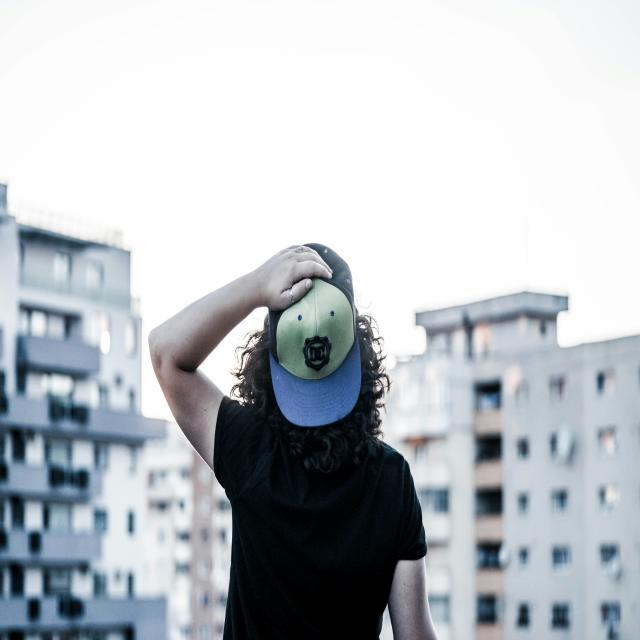no_hard_hat: (266, 241, 385, 427)
person: (149, 244, 437, 640)
